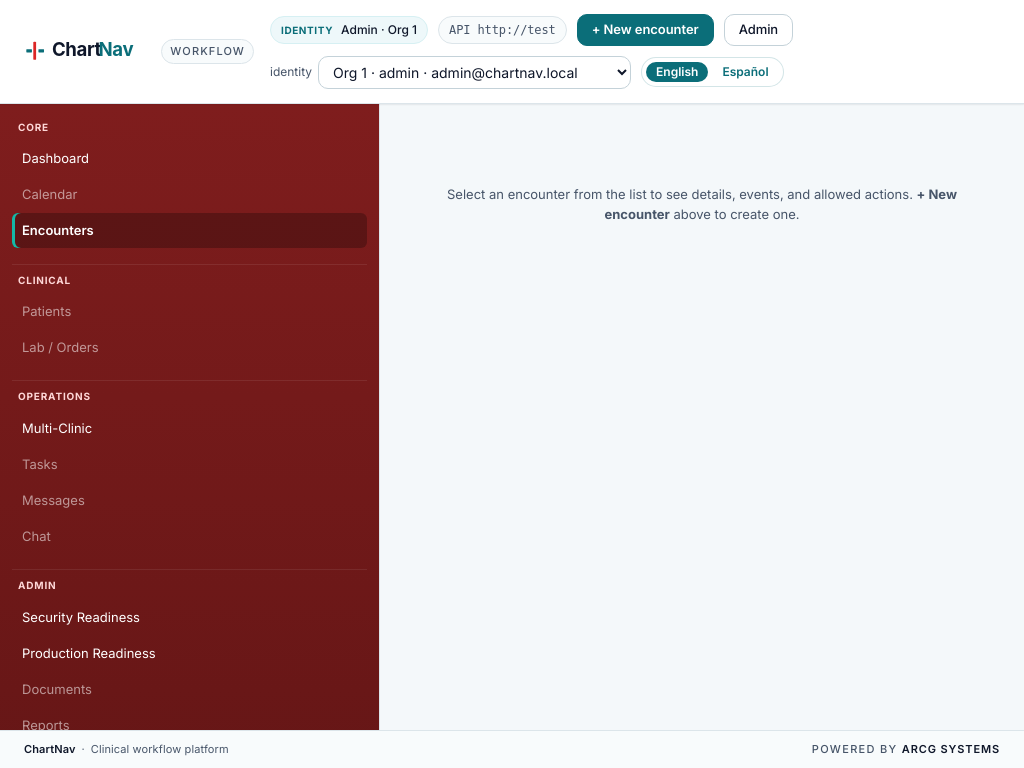
App — Spanish localization (Phase A) › clicking Español swaps top-bar + sidebar + filter strings and persists choice
Expected: the element with test id "identity-badge" is shown, top-left (270, 16), bottom-right (428, 44)
Click the button with test id "app-lang-option-es": point(746, 72) top-left (712, 62), bottom-right (779, 82)
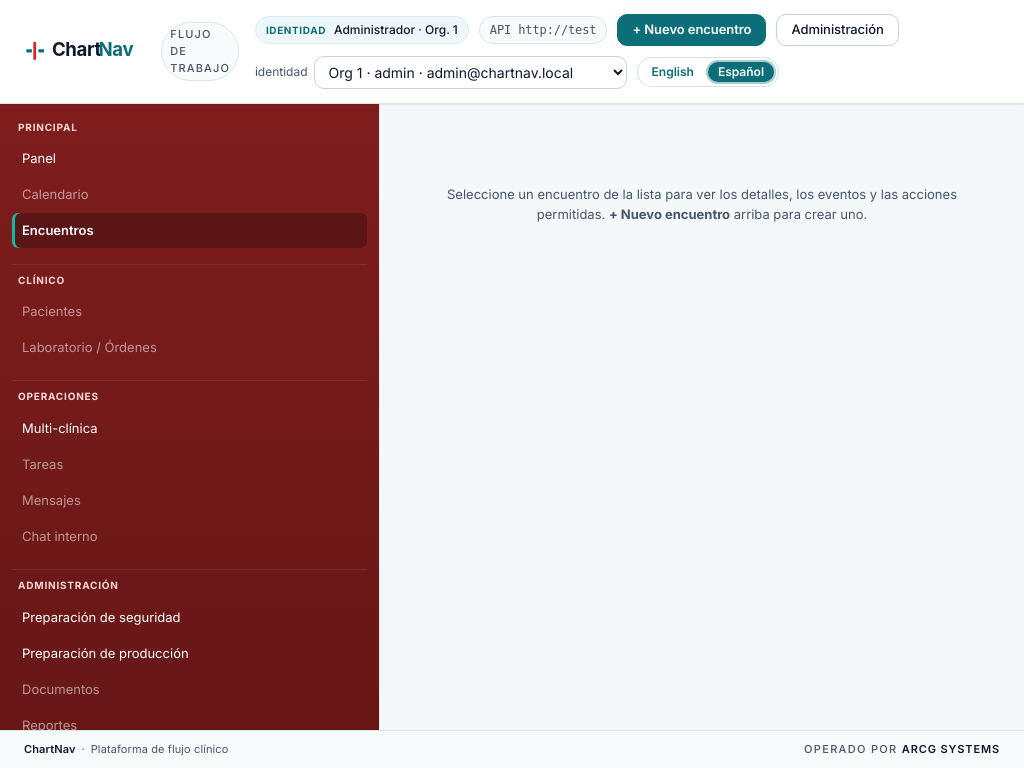
Expected: the button with test id "open-create-encounter" reads "+ Nuevo encuentro", top-left (617, 14), bottom-right (766, 46)
Expected: the button with test id "open-admin-panel" reads "Administración", top-left (776, 14), bottom-right (899, 46)
Expected: the element with test id "identity-badge" shows "Identidad", top-left (266, 24), bottom-right (326, 36)
